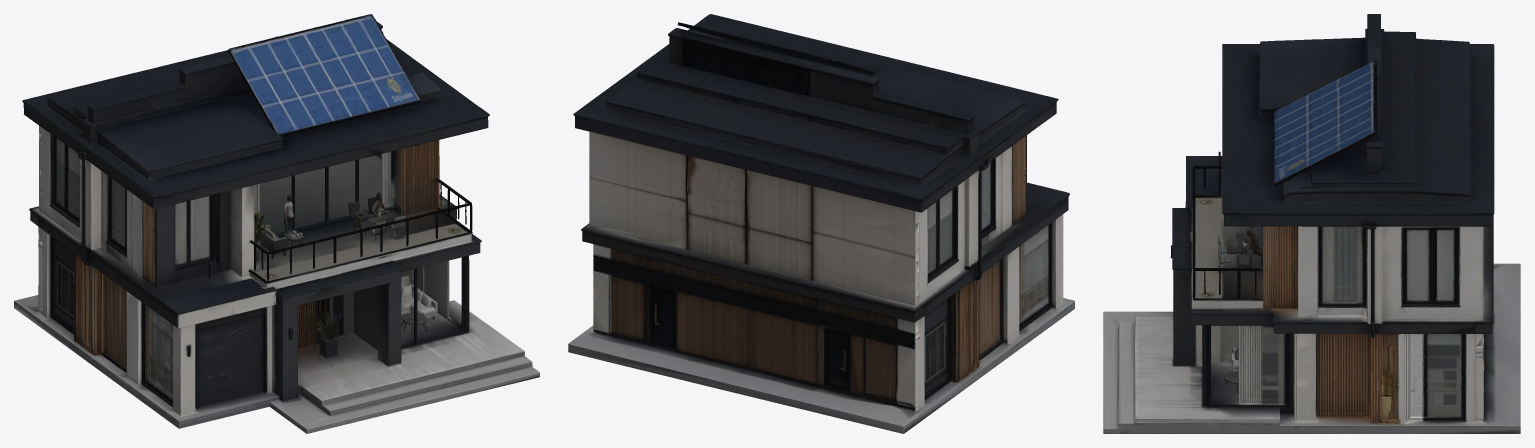
File: new_house_2_optimized.glb
3 renders of one model, left to right at view 1: azimuth 30°, elevation 25°; view 2: azimuth 150°, elevation 25°; view 3: azimuth 270°, elevation 25°, orthographic. The views are drawn at different scales.
Visible parts, largest first — view 1: world; view 2: world; view 3: world.
Boxes of the visible parts, left/top/right/bottom form: world: left=14, top=14, right=539, bottom=433; world: left=568, top=14, right=1074, bottom=433; world: left=1103, top=14, right=1520, bottom=433.
Bounding box in the file's own units: 0.9688 × 0.7513 × 1.
1 material, 1 textured.
